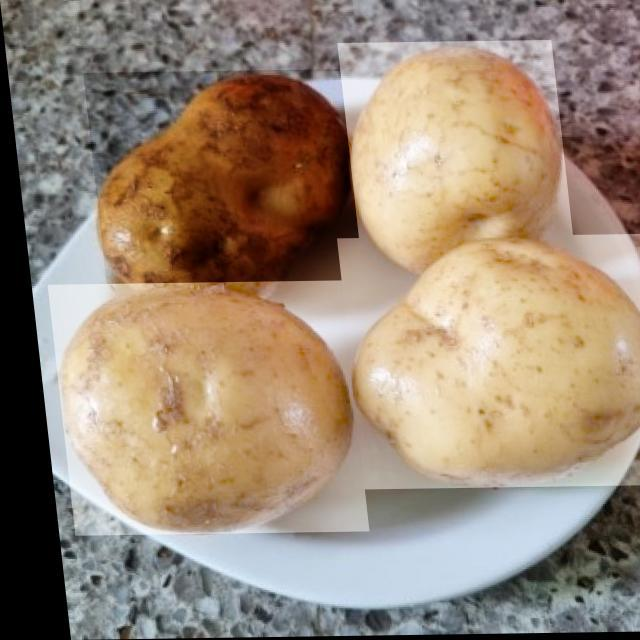Potato: (41, 281, 357, 535), (331, 235, 640, 490), (82, 70, 362, 310), (337, 42, 571, 278)
